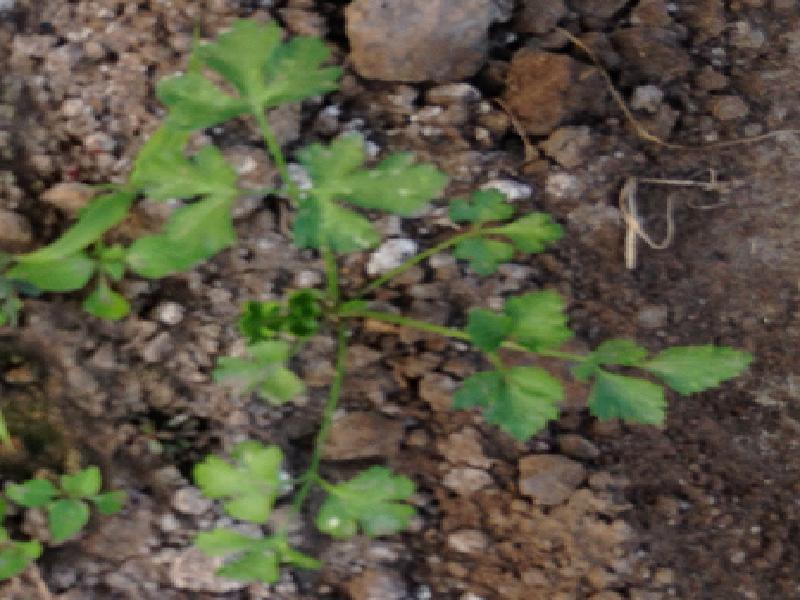radish: (42, 0, 800, 600)
